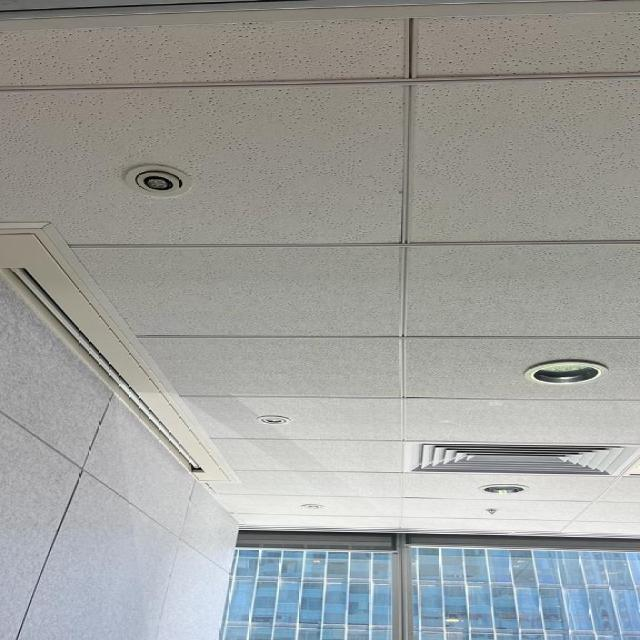Light-Closed: (113, 159, 215, 199), (520, 354, 614, 391), (238, 406, 304, 427), (274, 496, 336, 516)
